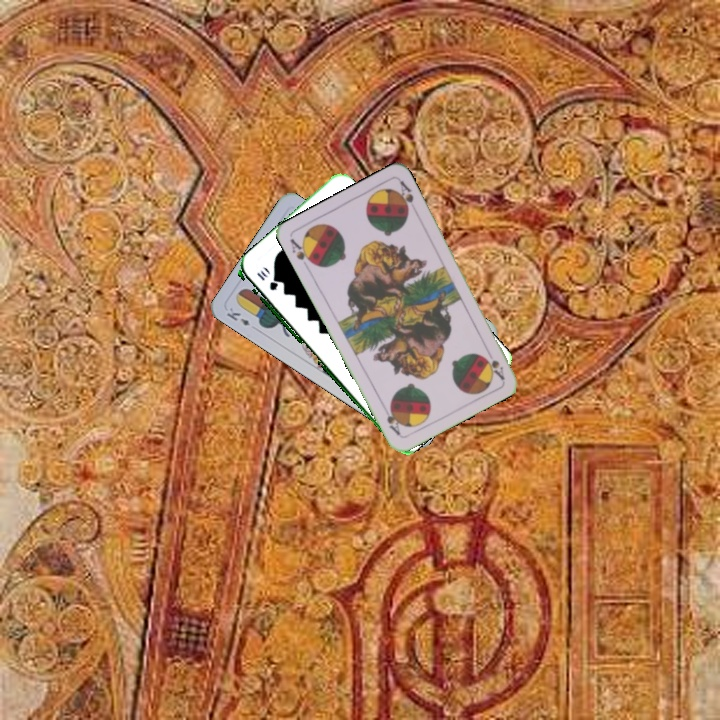EK: (223, 303, 253, 328)
G10: (253, 266, 280, 293)
SA: (286, 235, 318, 268), (481, 344, 507, 382)
